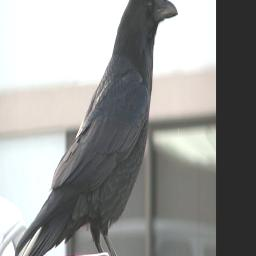Crow: (13, 0, 179, 256)
